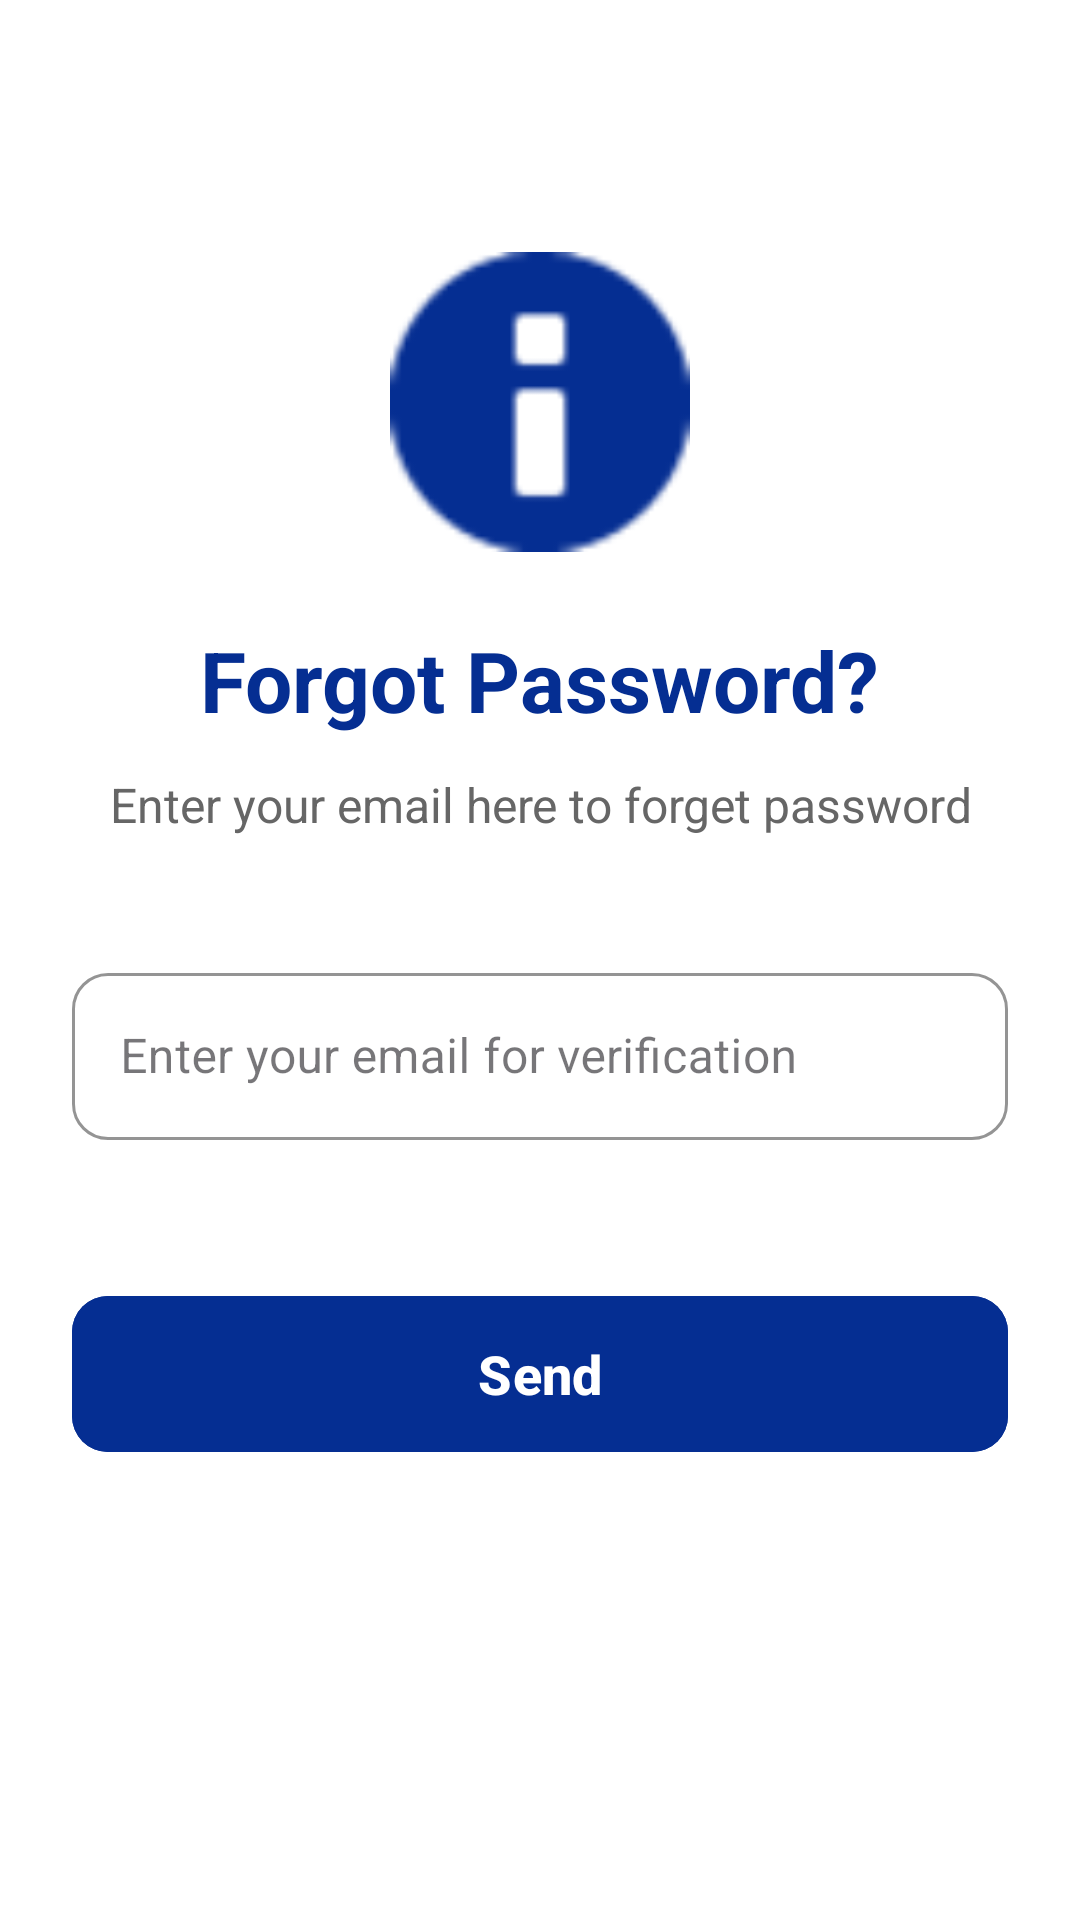

Where icons sit on this 1080x1920 app screen, as {"x1": x1, "y1": y1, "x2": x2, "y2": y2}:
info: {"x1": 390, "y1": 252, "x2": 690, "y2": 552}
